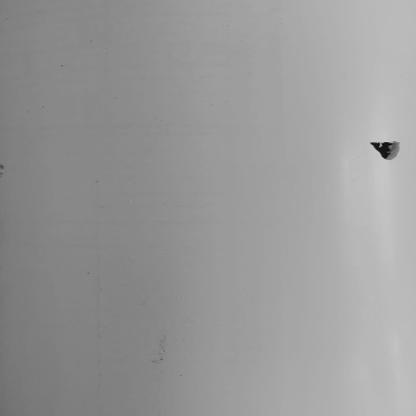kongdong: (358, 135, 407, 164)
